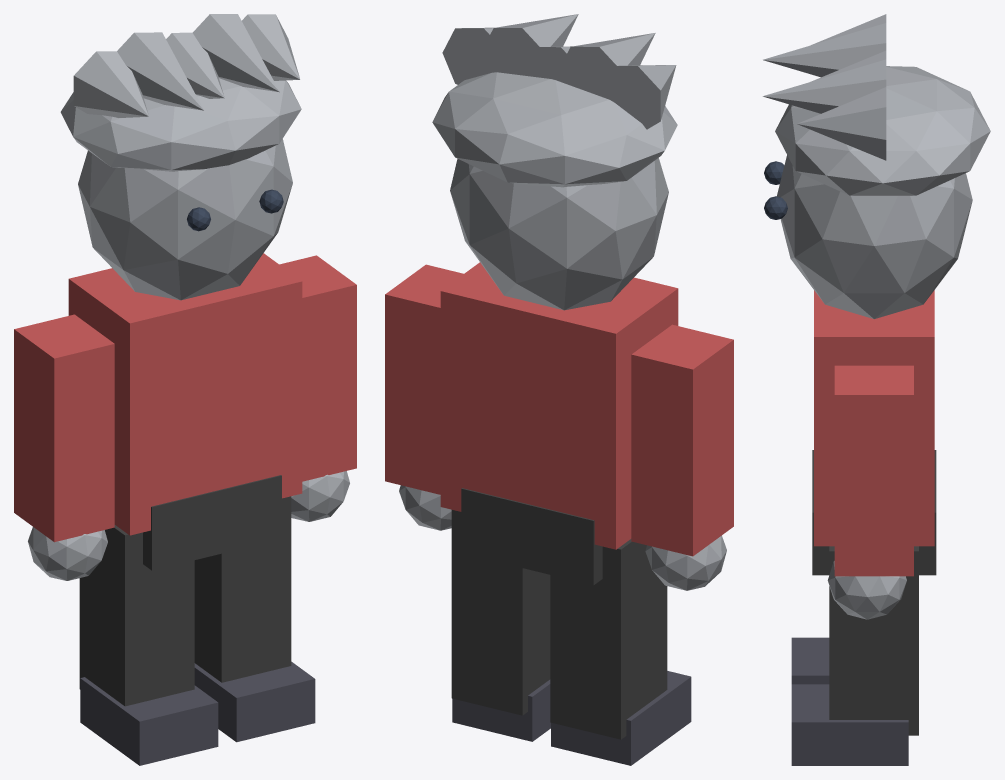
Rendered from jiren.glb.
3 views of the same model, side by side, from view 1: azimuth 30°, elevation 25°; view 2: azimuth 150°, elevation 25°; view 3: azimuth 270°, elevation 25° (orthographic). The views are drawn at different scales.
Parts seen in each view (by area): view 1: part_000, part_010, part_002, part_004, part_013, part_008, part_006, part_001, part_005, part_009, part_014, part_015 (+5 smaller); view 2: part_000, part_010, part_002, part_013, part_004, part_008, part_006, part_001, part_005, part_015, part_017, part_014 (+5 smaller); view 3: part_010, part_006, part_013, part_000, part_008, part_009, part_018, part_015, part_017, part_007, part_005, part_001 (+1 smaller).
Part boxes in pixels (bbox=[...]): part_000: bbox=[68, 253, 302, 535]; part_010: bbox=[78, 139, 292, 300]; part_002: bbox=[14, 314, 114, 542]; part_004: bbox=[79, 525, 194, 706]; part_013: bbox=[60, 78, 301, 171]; part_008: bbox=[194, 496, 291, 682]; part_006: bbox=[279, 255, 356, 481]; part_001: bbox=[143, 475, 281, 570]; part_005: bbox=[80, 677, 218, 765]; part_009: bbox=[194, 661, 315, 742]; part_014: bbox=[73, 51, 148, 117]; part_015: bbox=[117, 32, 203, 110]; part_000: bbox=[440, 262, 678, 549]; part_010: bbox=[450, 158, 668, 310]; part_002: bbox=[631, 324, 733, 556]; part_013: bbox=[432, 72, 677, 187]; part_004: bbox=[550, 539, 667, 739]; part_008: bbox=[451, 510, 550, 715]; part_006: bbox=[385, 264, 463, 494]; part_001: bbox=[461, 488, 602, 585]; part_005: bbox=[551, 671, 691, 765]; part_015: bbox=[558, 33, 655, 104]; part_017: bbox=[481, 14, 578, 77]; part_014: bbox=[596, 65, 676, 129]; part_010: bbox=[777, 155, 972, 319]; part_006: bbox=[834, 365, 913, 576]; part_013: bbox=[775, 66, 990, 195]; part_000: bbox=[814, 290, 934, 546]; part_008: bbox=[829, 546, 918, 735]; part_009: bbox=[791, 684, 908, 765]; part_018: bbox=[797, 87, 886, 160]; part_015: bbox=[763, 23, 886, 77]; part_017: bbox=[763, 59, 886, 113]; part_007: bbox=[827, 561, 906, 619]; part_005: bbox=[791, 637, 829, 684]; part_001: bbox=[812, 450, 936, 575].
Size of the model in its own units: 1.21 by 2.54 by 0.7755.
